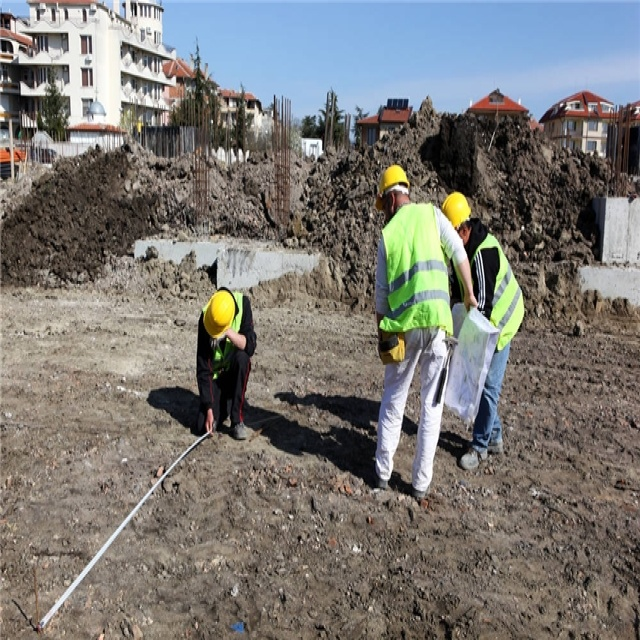Helmet: (367, 160, 419, 215), (197, 286, 241, 342), (434, 187, 475, 245)
Reflective vest: (378, 202, 454, 344), (474, 229, 528, 352), (193, 288, 250, 395)
